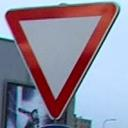preferencia: (2, 2, 122, 124)
